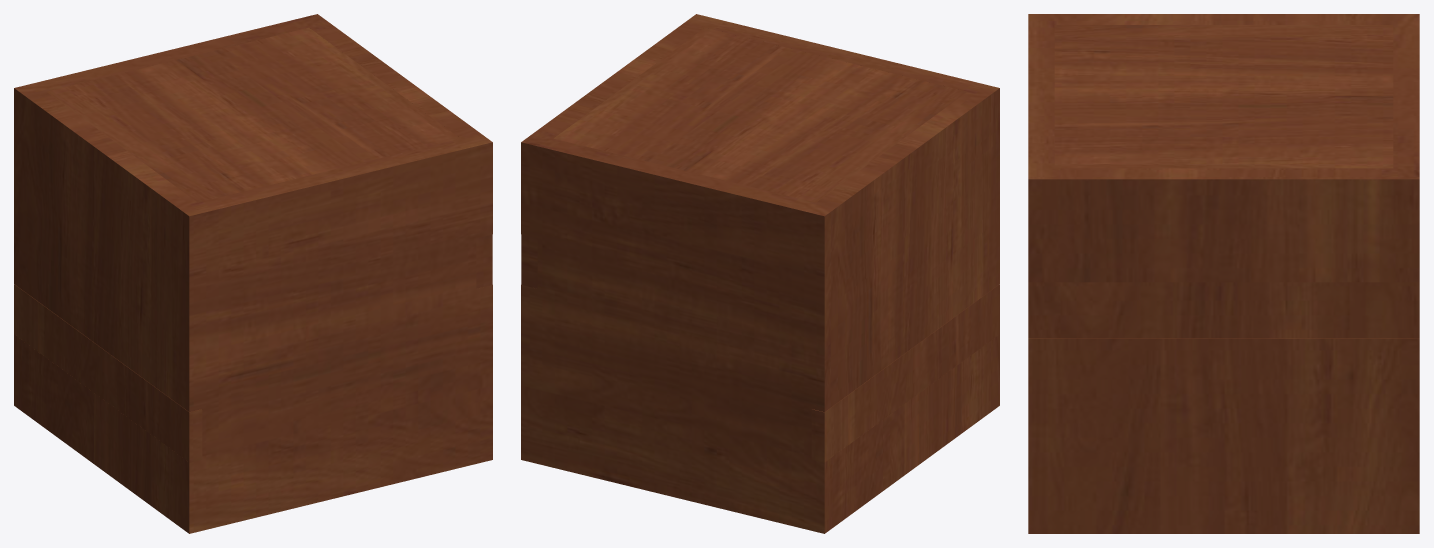
The picture shows the model from 3 angles, left to right: view 1: azimuth 30°, elevation 25°; view 2: azimuth 150°, elevation 25°; view 3: azimuth 270°, elevation 25°; orthographic projection. The views are drawn at different scales.
Visible parts, largest first — view 1: box; view 2: box; view 3: box.
Part boxes in pixels (left/top/right/bottom): box: left=14, top=14, right=492, bottom=533; box: left=521, top=14, right=999, bottom=533; box: left=1028, top=14, right=1419, bottom=533.
Size of the model in its own units: 2 by 2 by 2.
Materials: 4 (4 with a texture image).
